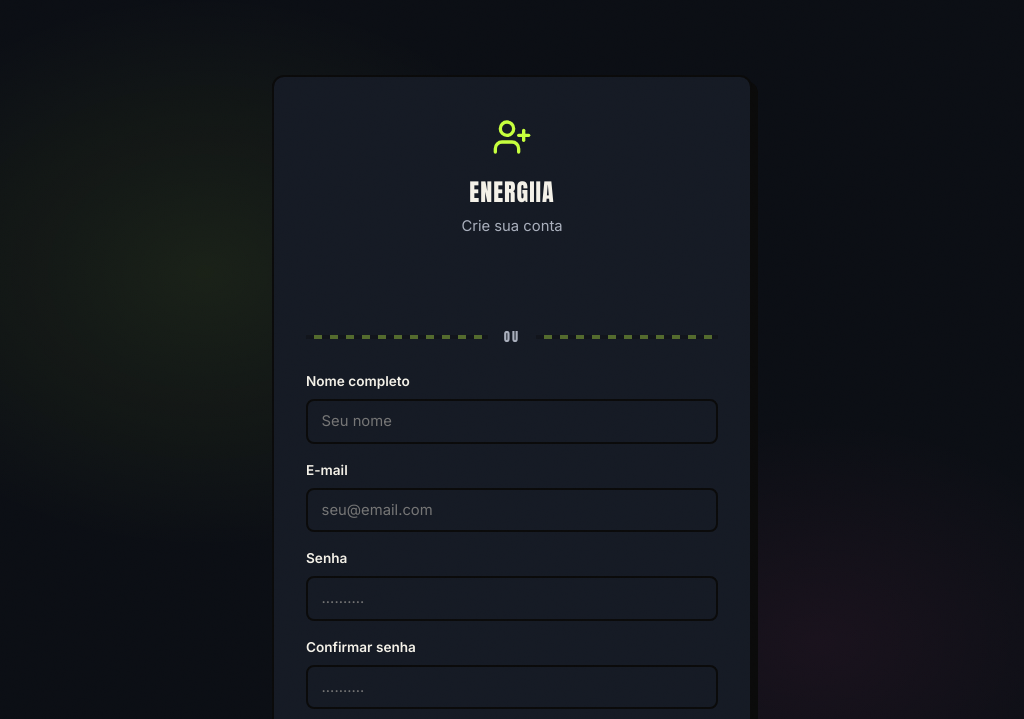
Register › shows error message on failed registration
In the field labelled "Nome completo": (512, 422) [306,399,718,444], type "Test User"
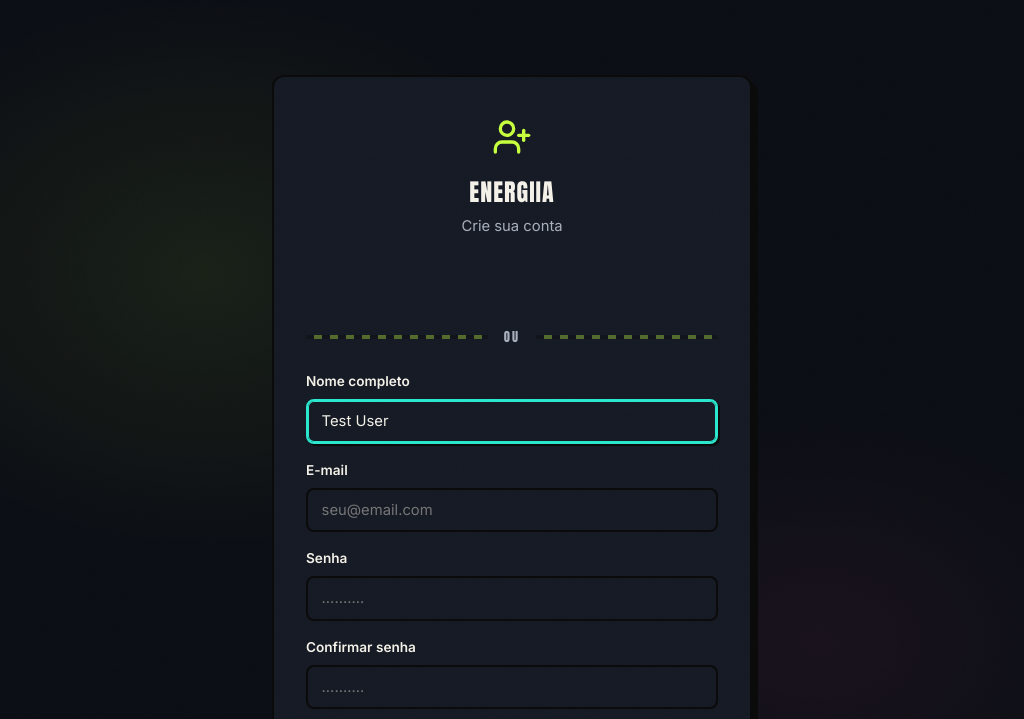
In the field labelled "E-mail": (512, 510) [306,488,718,532], type "existing@test.com"
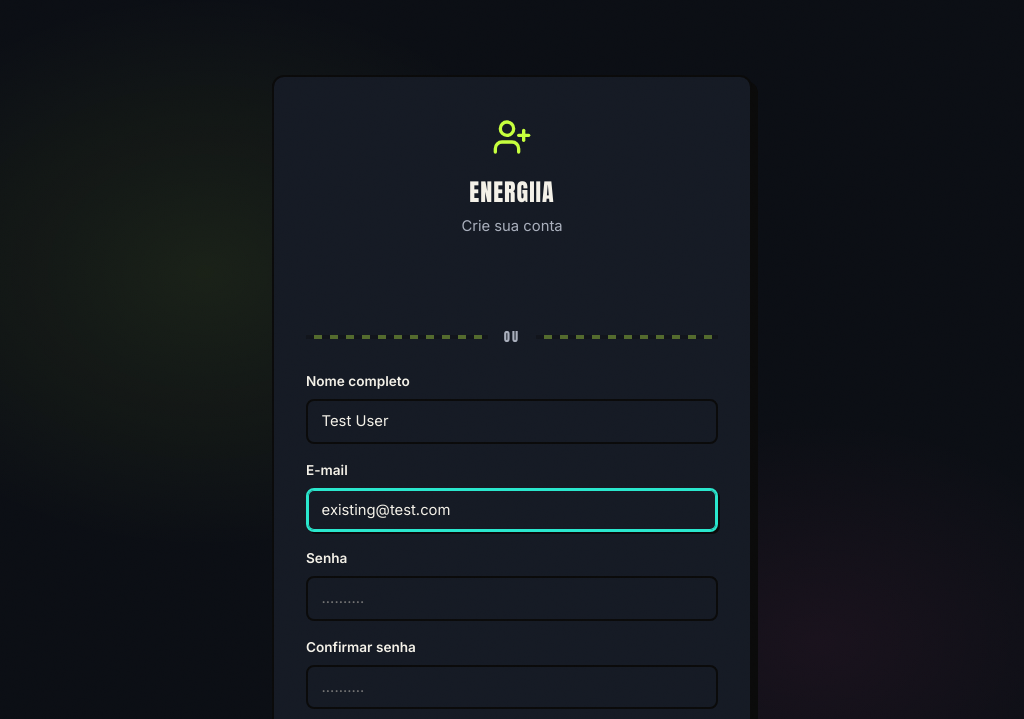
In the password field labelled "Senha": (512, 598) [306,576,718,621], type "password123"
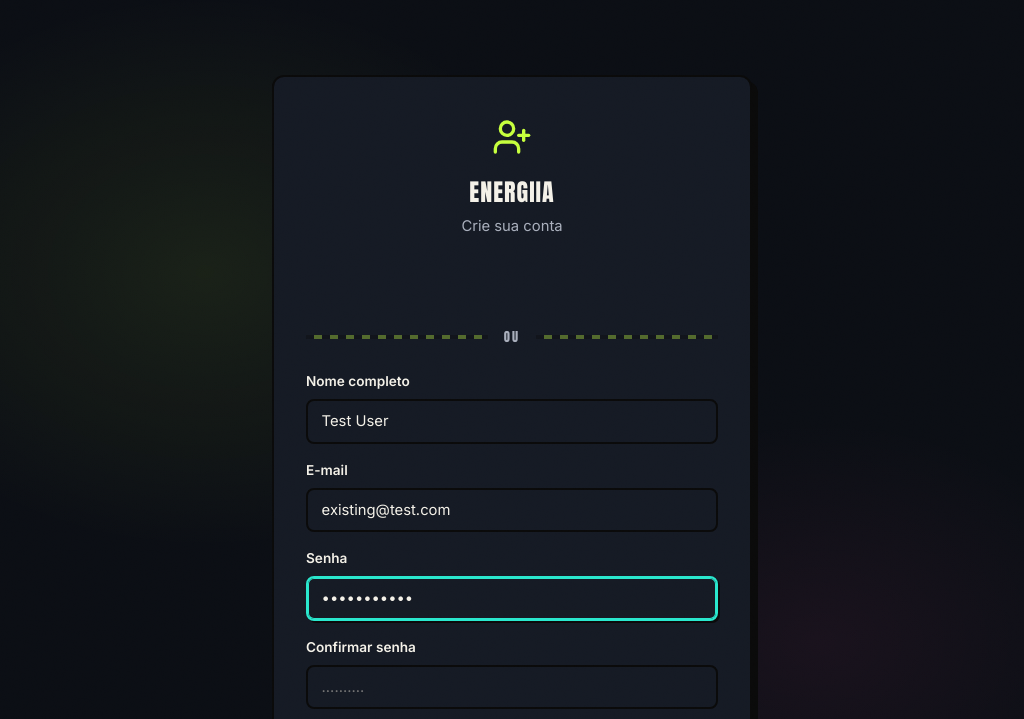
In the password field labelled "Confirmar senha": (512, 687) [306,665,718,709], type "password123"
(page scrolled)
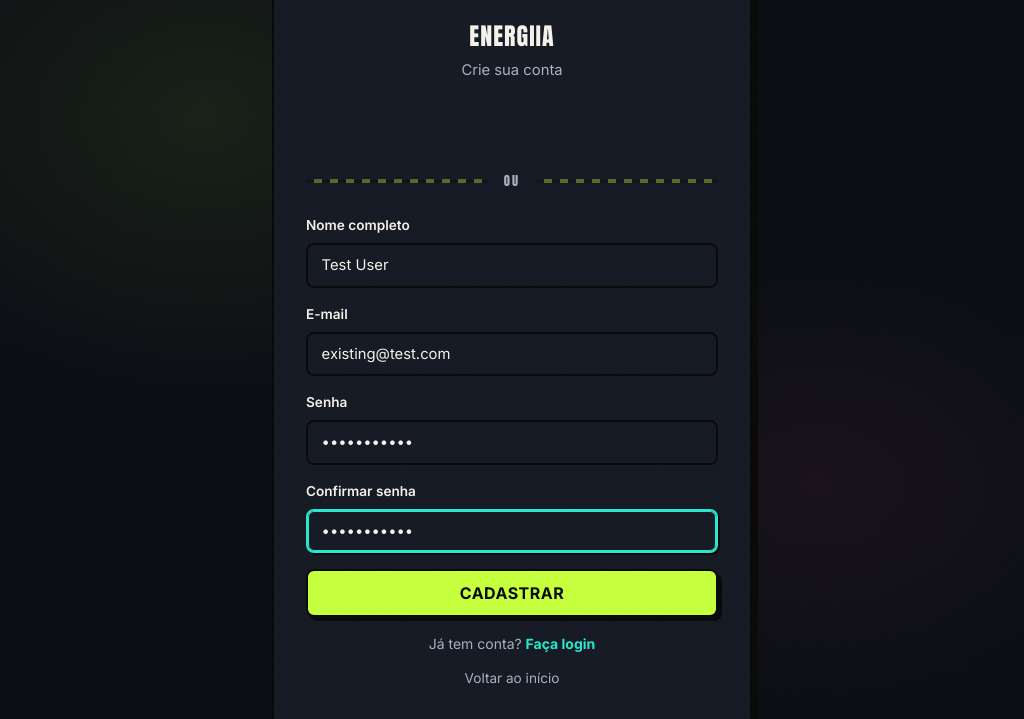
Click the button "Cadastrar": (512, 593) [306,569,718,617]
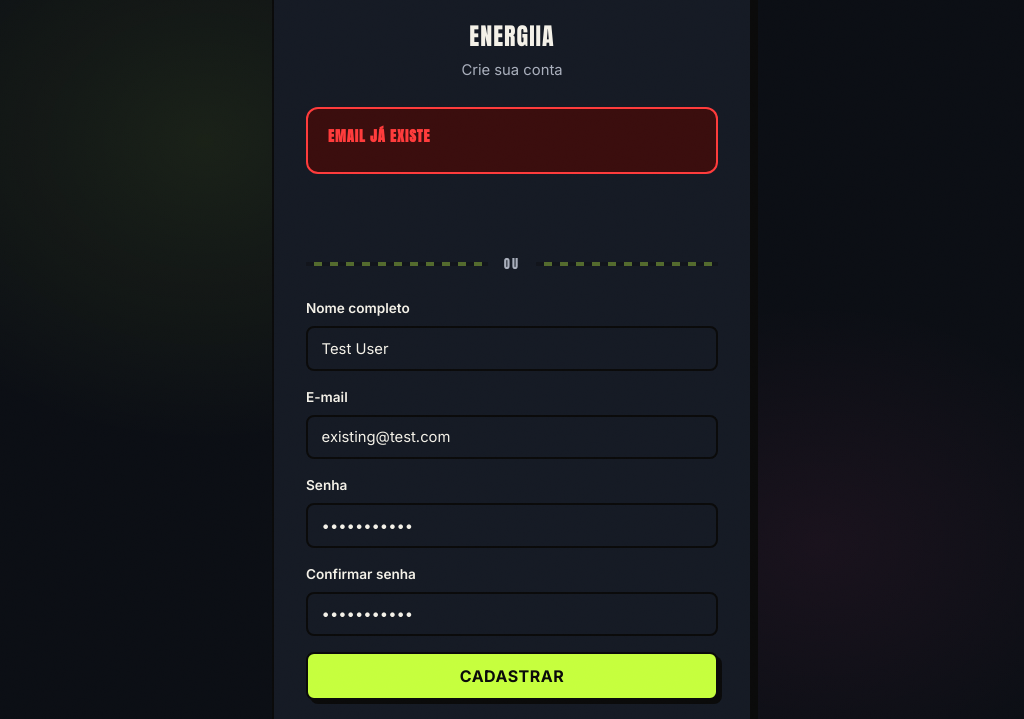
Expected: the text "Email já existe" is shown, [328,125,430,147]
